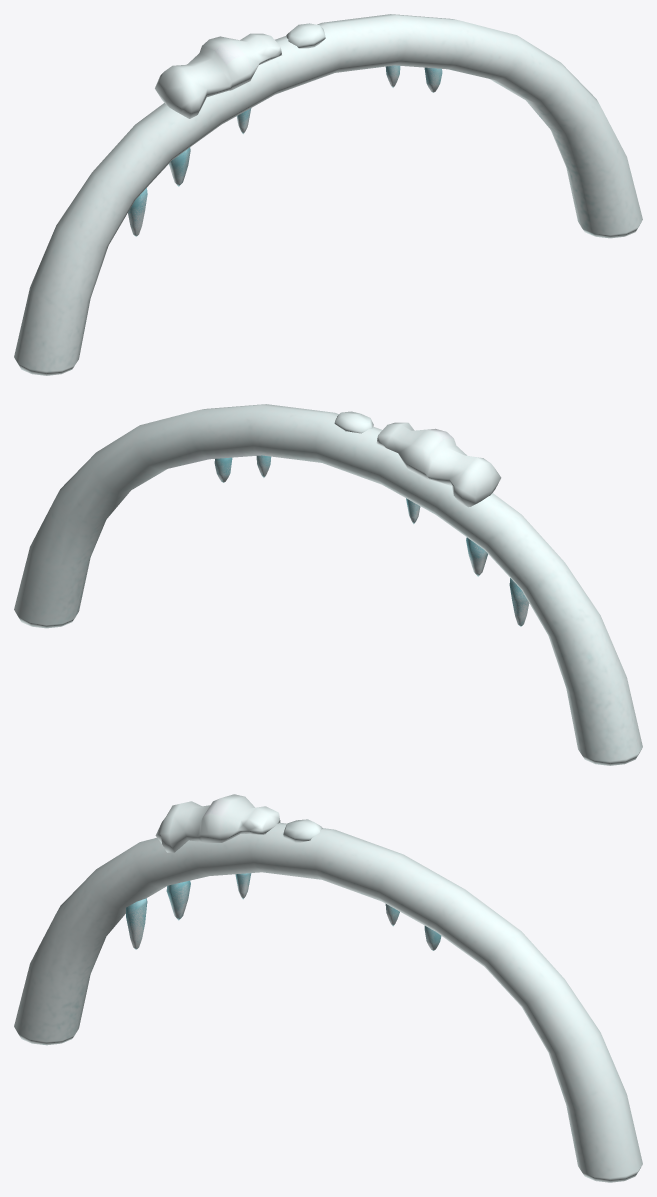
Rendered from goal.fbx.
3 views of the same model, one above another, from view 1: azimuth 30°, elevation 25°; view 2: azimuth 150°, elevation 25°; view 3: azimuth 330°, elevation 25° (orthographic).
Parts seen in each view (by area): view 1: pTorus3, pCube2, pCube3, pCone1; view 2: pTorus3, pCube2, pCube3, pCone1; view 3: pTorus3, pCube2, pCone1, pCube3, pCone2.
Part boxes in pixels (x1,y1,x2,y2): pTorus3: (14,14,642,375); pCube2: (155,33,281,118); pCube3: (286,23,325,48); pCone1: (128,188,147,236); pTorus3: (14,404,642,765); pCube2: (376,422,501,507); pCube3: (334,411,373,433); pCone1: (509,578,529,626); pTorus3: (14,822,642,1182); pCube2: (155,794,280,852); pCone1: (126,898,147,949); pCube3: (283,819,322,842); pCone2: (166,880,190,920).
Bounding box in the file's own units: 1931 × 827 × 179.
1 material, 1 textured.
